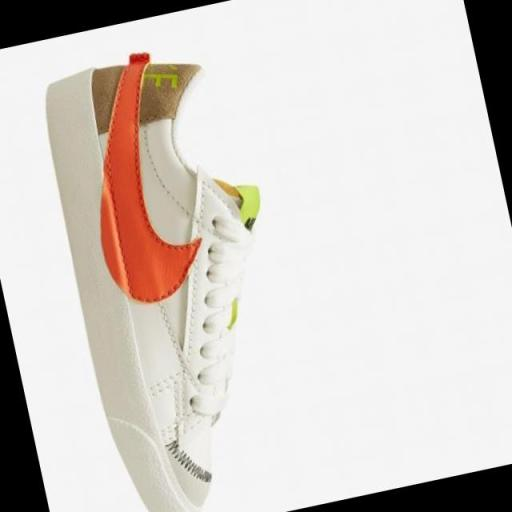Nike: (62, 68, 208, 314)
